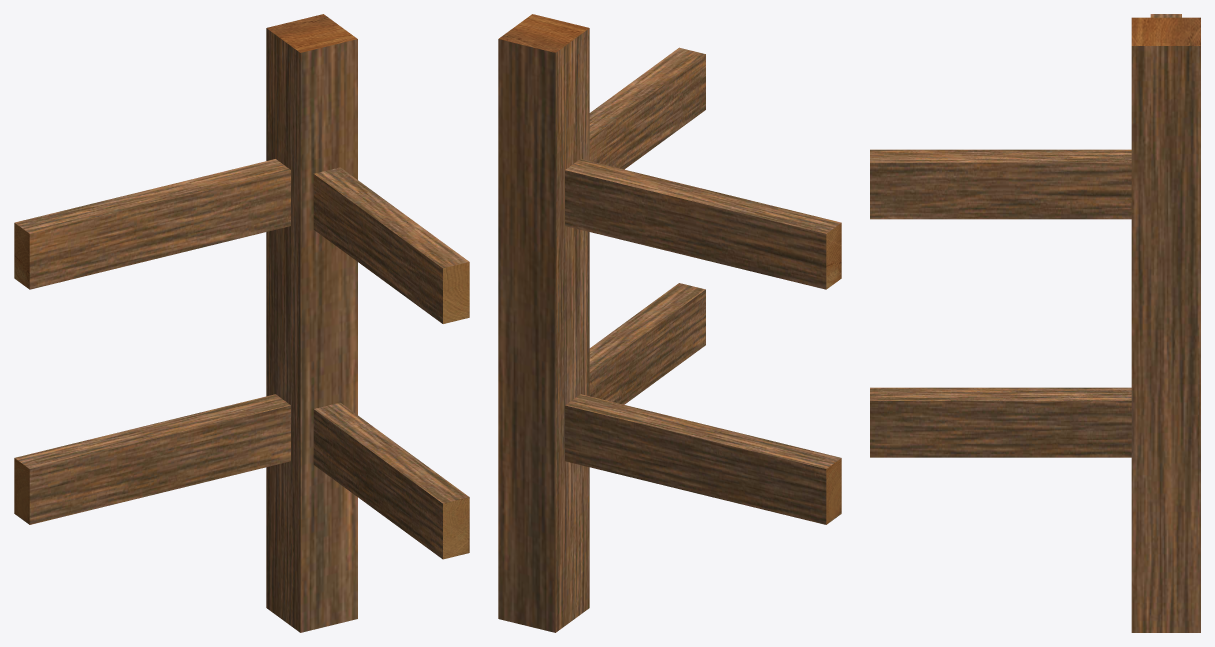
The model's file is fence_wooden_corner.fbx.
3 renders of one model, left to right at view 1: azimuth 30°, elevation 25°; view 2: azimuth 150°, elevation 25°; view 3: azimuth 270°, elevation 25°, orthographic.
Visible parts, largest first — view 1: polySurface6; view 2: polySurface6; view 3: polySurface6.
Boxes of the visible parts, left/top/right/bottom form: polySurface6: left=14, top=14, right=469, bottom=632; polySurface6: left=498, top=14, right=841, bottom=632; polySurface6: left=870, top=14, right=1200, bottom=632.
Bounding box in the file's own units: 1.19 × 2.08 × 1.06.
